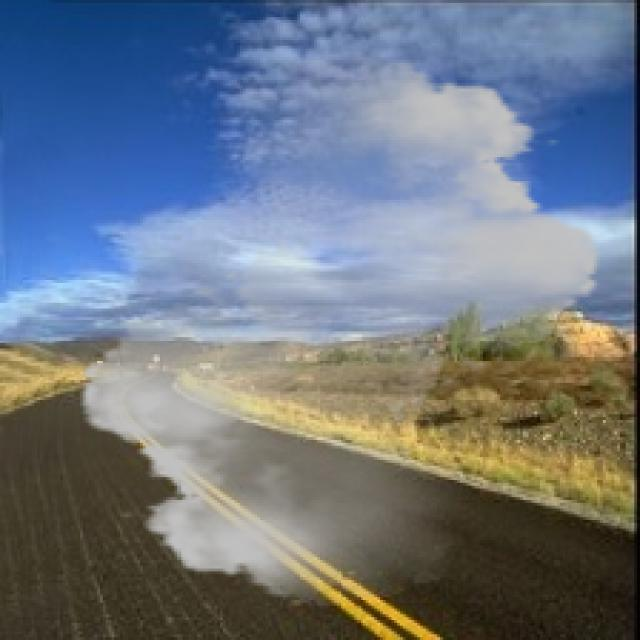Smoke: (62, 51, 618, 606)
